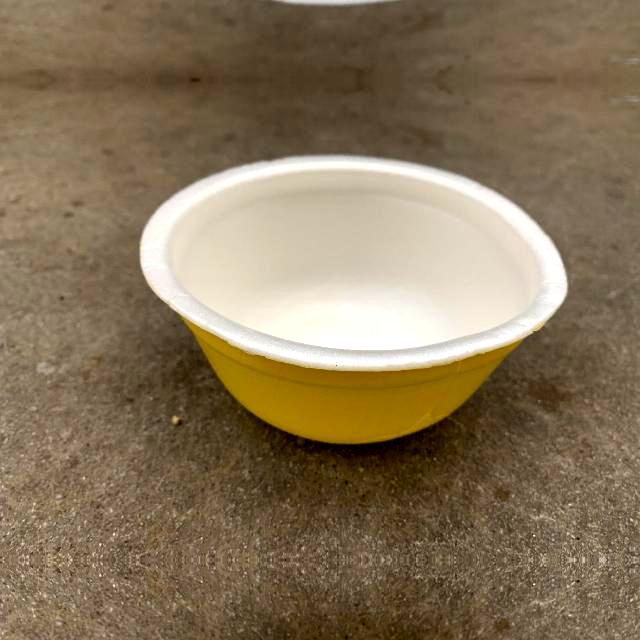Styrofoam: (139, 152, 567, 444), (140, 155, 569, 444)
